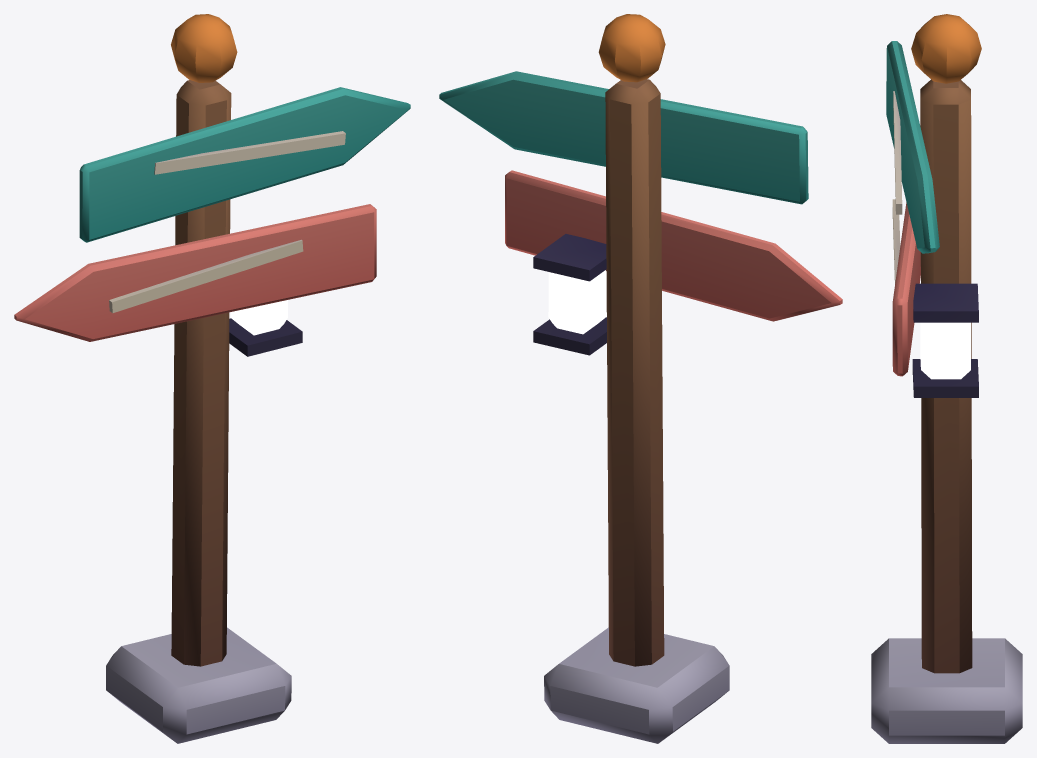
Rendered from common_town_signpost.glb.
3 renders of one model, left to right at view 1: azimuth 30°, elevation 25°; view 2: azimuth 150°, elevation 25°; view 3: azimuth 270°, elevation 25°, orthographic.
Parts seen in each view (by area): view 1: common_town_signpost; view 2: common_town_signpost; view 3: common_town_signpost.
Part boxes in pixels (x1=…): common_town_signpost: x1=14, y1=14, x2=410, y2=743; common_town_signpost: x1=439, y1=14, x2=842, y2=743; common_town_signpost: x1=871, y1=14, x2=1022, y2=743.
Size of the model in its own units: 1.86 by 3.09 by 0.6003.
